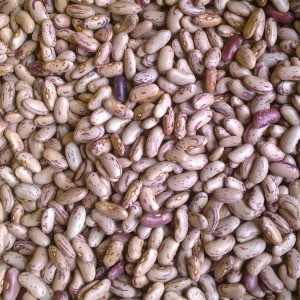beans_brain food: (49, 112, 242, 210)
